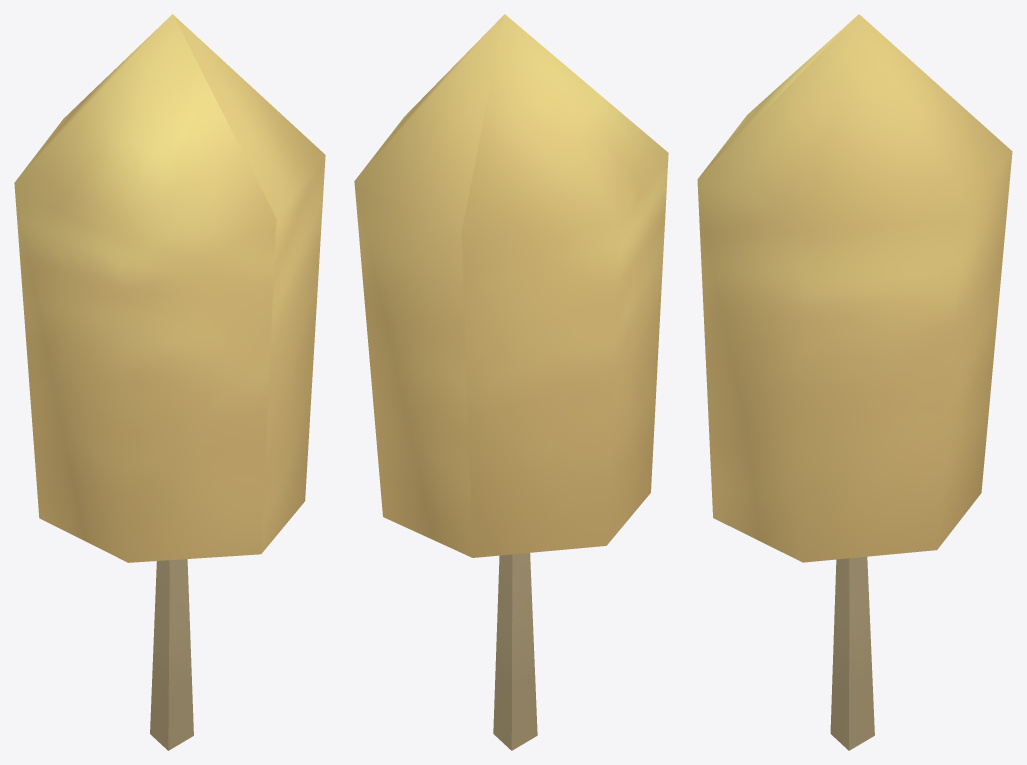
3 renders of one model, left to right at view 1: azimuth 30°, elevation 25°; view 2: azimuth 150°, elevation 25°; view 3: azimuth 270°, elevation 25°, orthographic.
Visible parts, largest first — view 1: LOD2Tree; view 2: LOD2Tree; view 3: LOD2Tree.
Part boxes in pixels (x1=…): LOD2Tree: x1=14, y1=14, x2=325, y2=750; LOD2Tree: x1=354, y1=14, x2=668, y2=750; LOD2Tree: x1=697, y1=14, x2=1012, y2=750.
Size of the model in its own units: 7.36 by 19.37 by 7.59.
Materials: 1 (1 with a texture image).
